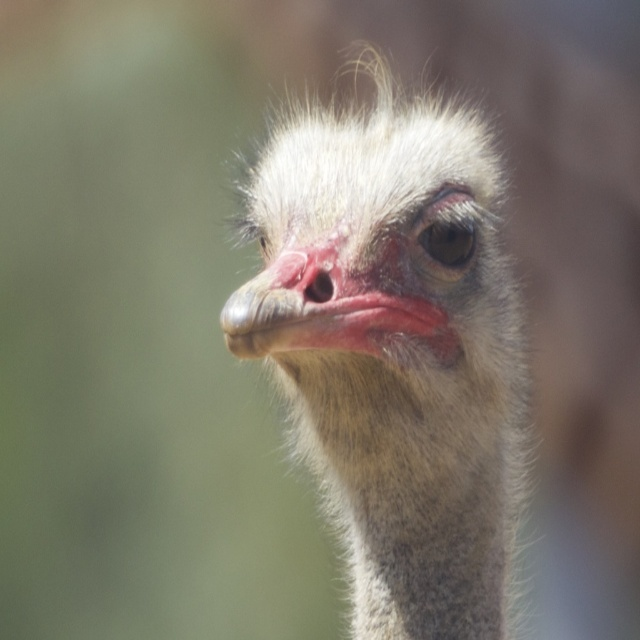Ostrich: (218, 34, 532, 638)
